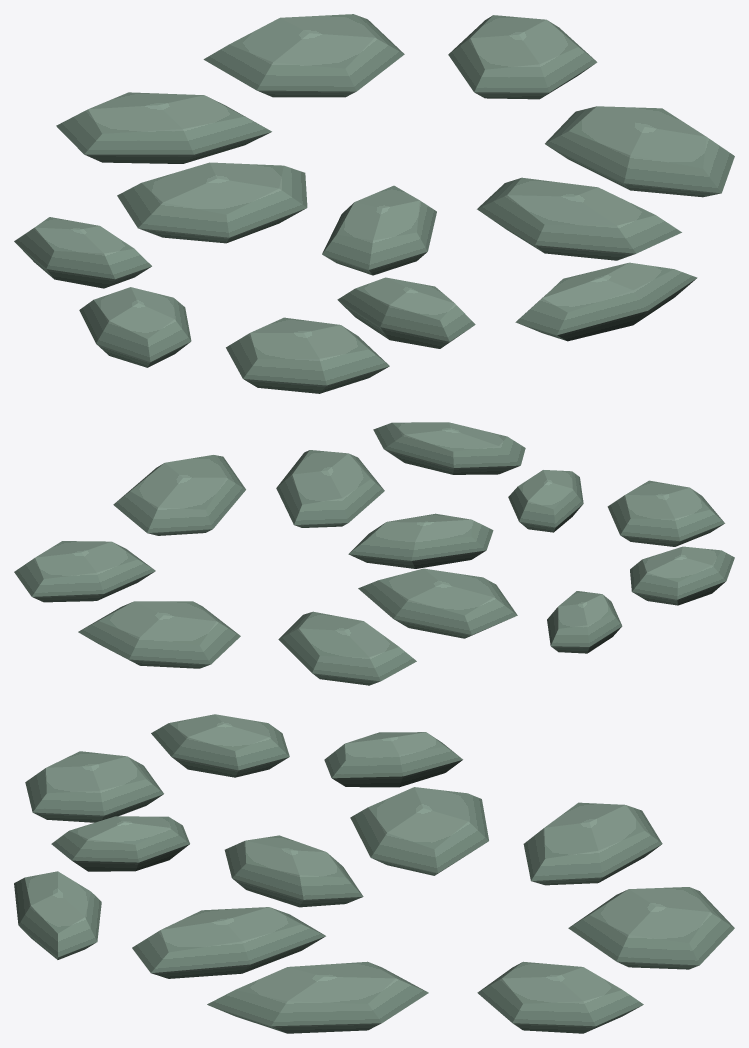
The model's file is stone-road.fbx.
3 renders of one model, top to bottom at view 1: azimuth 30°, elevation 25°; view 2: azimuth 150°, elevation 25°; view 3: azimuth 270°, elevation 25°, orthographic. The views are drawn at different scales.
Parts seen in each view (by area): view 1: Plane.021, Plane.019, Plane.012, Plane.018, Plane.022, Plane.020, Plane.015, Plane.023, Plane.013, Plane.016, Plane.017, Plane.014; view 2: Plane.019, Plane.012, Plane.021, Plane.018, Plane.020, Plane.023, Plane.022, Plane.013, Plane.015, Plane.016, Plane.014, Plane.017; view 3: Plane.021, Plane.019, Plane.022, Plane.012, Plane.018, Plane.020, Plane.015, Plane.013, Plane.016, Plane.014, Plane.017, Plane.023.
Boxes of the visible parts, <box> form: Plane.021: <box>545,106,734,197</box>; Plane.019: <box>203,14,404,97</box>; Plane.012: <box>117,162,307,243</box>; Plane.018: <box>56,92,271,163</box>; Plane.022: <box>477,177,681,260</box>; Plane.020: <box>448,15,597,99</box>; Plane.015: <box>226,317,389,393</box>; Plane.023: <box>515,262,697,341</box>; Plane.013: <box>322,185,436,275</box>; Plane.016: <box>79,287,191,367</box>; Plane.017: <box>14,217,151,288</box>; Plane.014: <box>337,277,475,348</box>; Plane.019: <box>78,601,240,668</box>; Plane.012: <box>358,568,517,638</box>; Plane.021: <box>113,455,245,535</box>; Plane.018: <box>278,611,416,685</box>; Plane.020: <box>14,541,155,602</box>; Plane.023: <box>373,422,525,474</box>; Plane.022: <box>276,450,384,527</box>; Plane.013: <box>348,513,493,568</box>; Plane.015: <box>607,480,724,546</box>; Plane.016: <box>630,546,734,605</box>; Plane.014: <box>508,470,583,532</box>; Plane.017: <box>547,591,622,653</box>; Plane.021: <box>207,961,428,1033</box>; Plane.019: <box>568,887,734,969</box>; Plane.022: <box>132,907,325,978</box>; Plane.012: <box>350,787,488,875</box>; Plane.018: <box>523,802,662,885</box>; Plane.020: <box>477,961,643,1033</box>; Plane.015: <box>25,751,163,822</box>; Plane.013: <box>224,835,363,907</box>; Plane.016: <box>151,714,289,777</box>; Plane.014: <box>51,816,189,871</box>; Plane.017: <box>324,732,462,787</box>; Plane.023: <box>14,871,101,959</box>.
Size of the model in its own units: 356 by 20.81 by 358.
